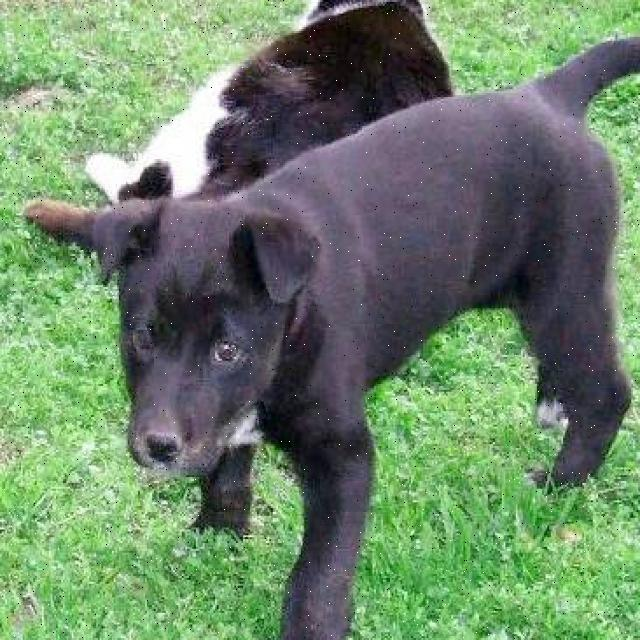Dog: (84, 197, 312, 498)
